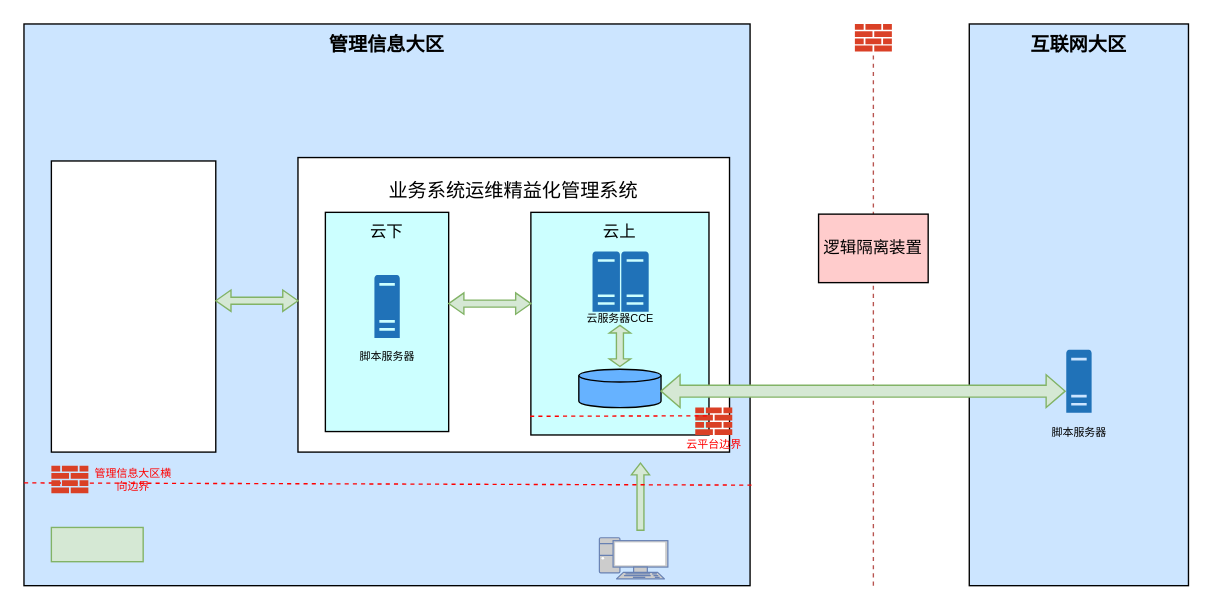
Some shapes in this 1212 by 611 pixel diagram are drawn without their labels. The shapes that lost their labels are listed below. From the top down, each one's centre as x and y in pixels, then its label:
the point at 133,306: 集成应用 统一权限管理平台ISC 精卫智能运维平台
the point at 619,388: RDS
the point at 96,544: 省侧
